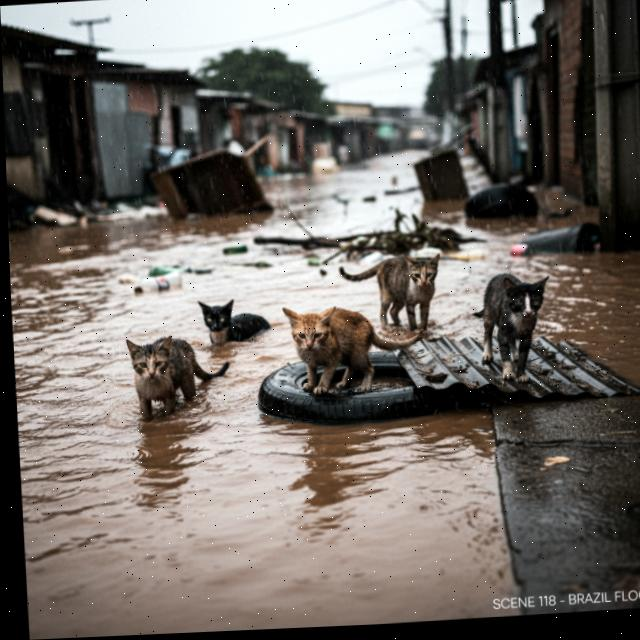cat: (277, 299, 403, 406), (333, 247, 445, 346), (465, 267, 557, 387), (122, 327, 231, 417), (190, 293, 269, 348)
